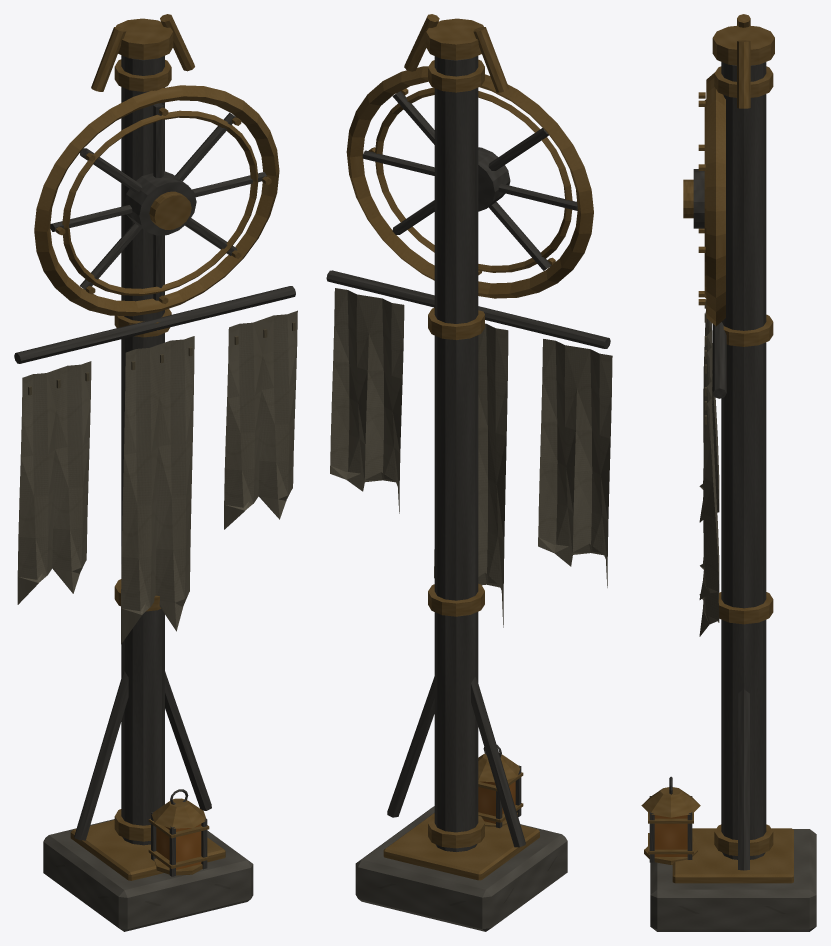
Rendered from env_signal_post.fbx.
The picture shows the model from 3 angles, left to right: view 1: azimuth 30°, elevation 25°; view 2: azimuth 150°, elevation 25°; view 3: azimuth 270°, elevation 25°; orthographic projection.
Visible parts, largest first — view 1: env_signal_post; view 2: env_signal_post; view 3: env_signal_post.
Part boxes in pixels (bbox=[...]): env_signal_post: bbox=[14, 14, 297, 931]; env_signal_post: bbox=[326, 14, 612, 931]; env_signal_post: bbox=[641, 14, 816, 931].
Bounding box in the file's own units: 110 × 60 × 330.
Materials: 1 (1 with a texture image).
